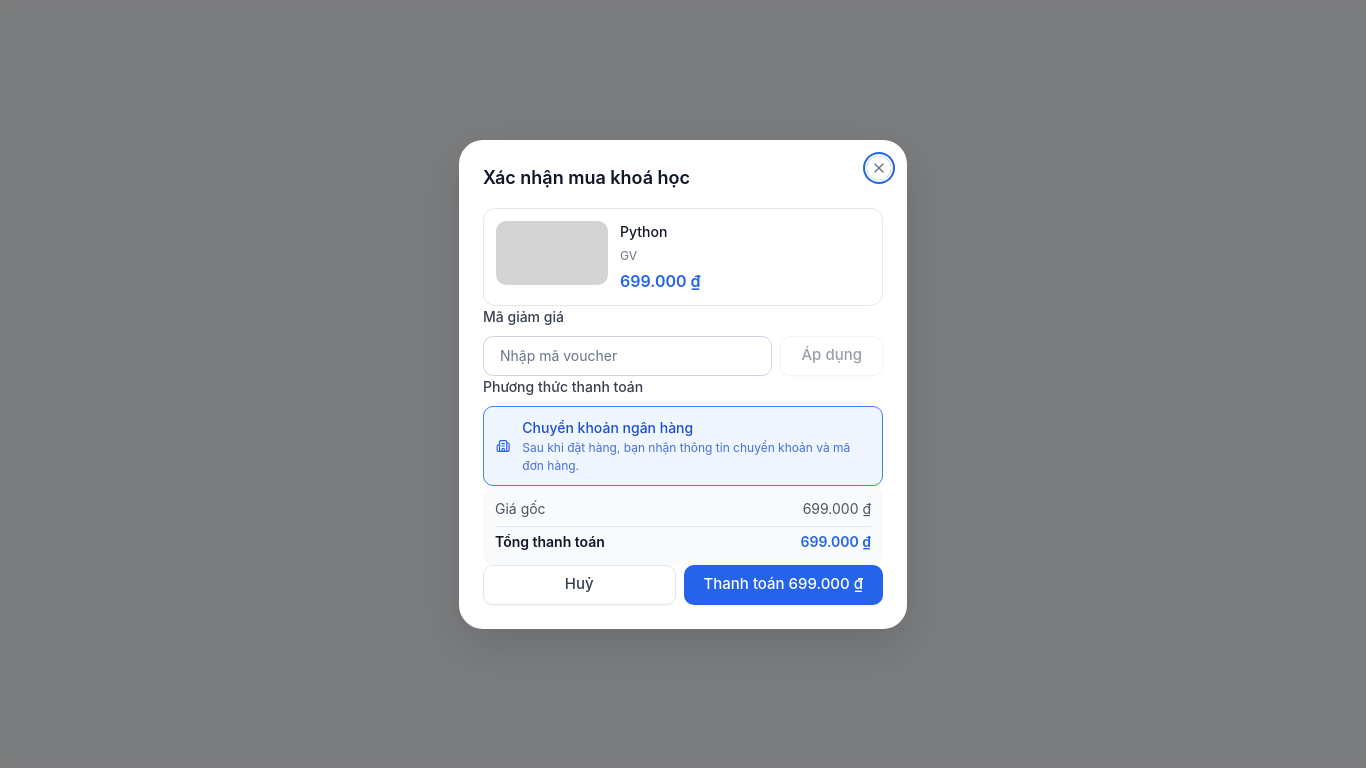
Test: CheckoutModal — voucher có đơn tối thiểu áp được theo giá khoá (A-05) › SUMMER50K (tối thiểu 300.000đ) áp được cho khoá 699.000đ
Step 1. Type "SUMMER50K" into the field with placeholder "Nhập mã voucher" → (628, 356), box [483, 336, 772, 376]
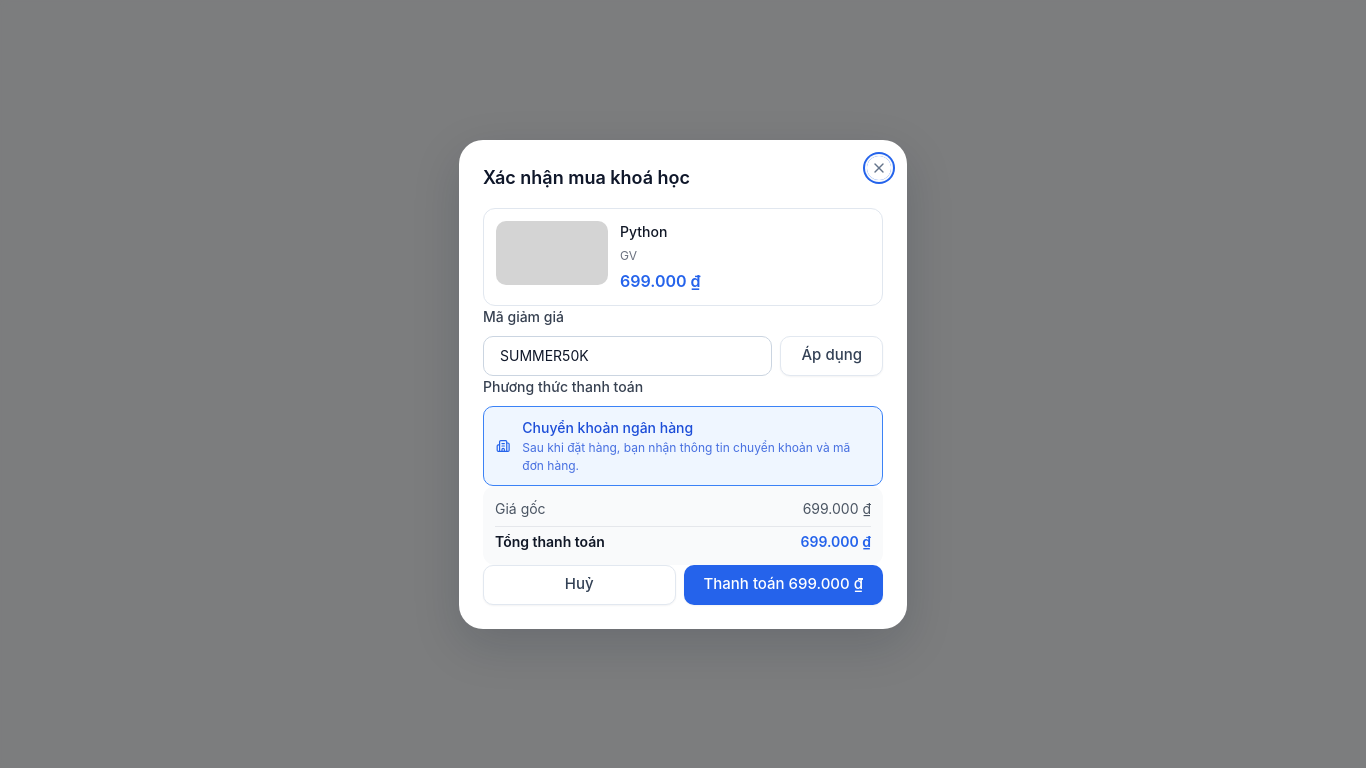
Step 2. Click the button "Áp dụng" → (832, 356), box [780, 336, 883, 376]
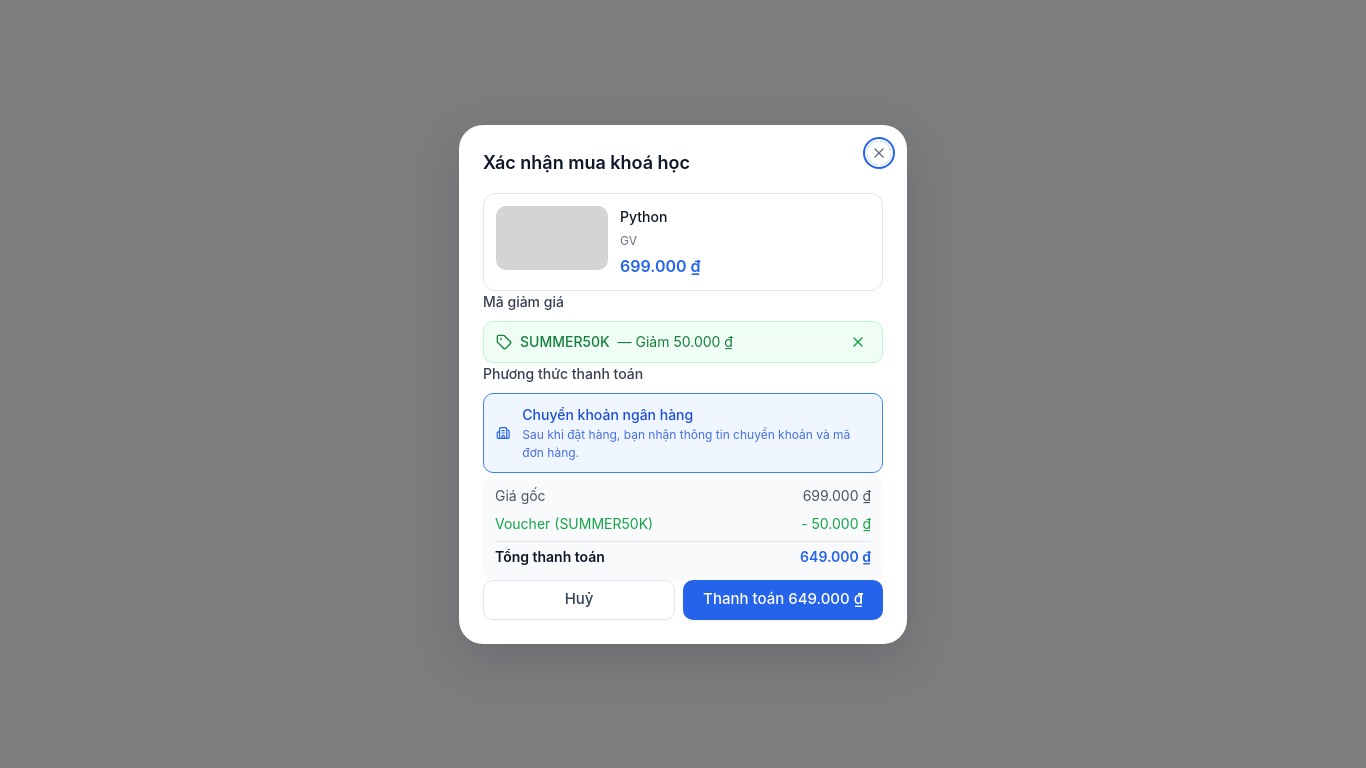
Check: the text "— Giảm 50.000 ₫" is shown, box [618, 330, 733, 352]
Check: the text "- 50.000 ₫" is shown, box [801, 512, 871, 534]
